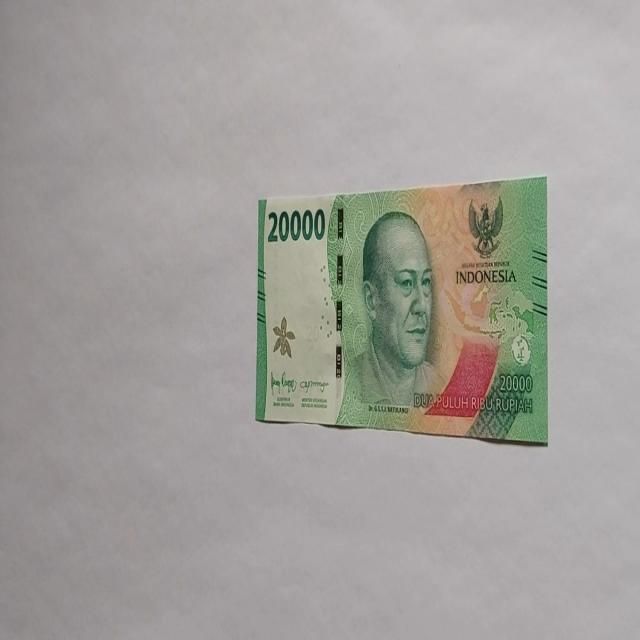dua puluh ribu rupiah: (254, 174, 548, 444), (334, 208, 448, 429)
